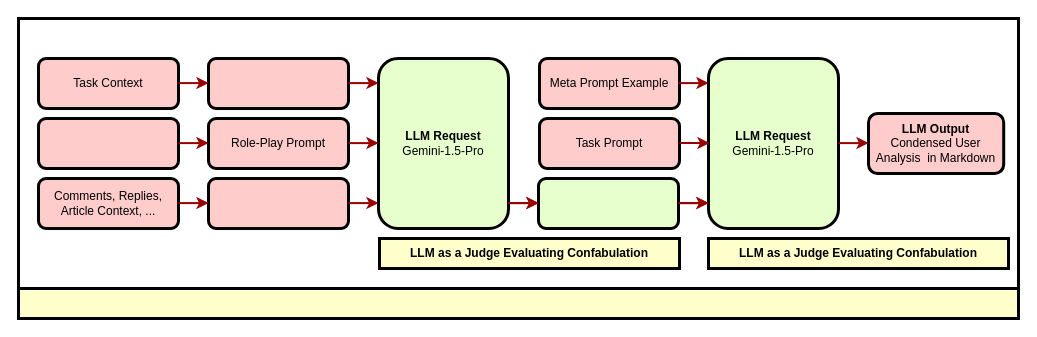
Some shapes in this 1037 by 337 pixel diagram are drawn without their labels. The shapes that lost their labels are listed below. From the top down, each one's centre as x and y in pixels, then its label:
At [278,83]: "Response Schema".
At [108,143]: "Role: Lisa Feldman Barrett".
At [278,203]: "Context Sphere".
At [608,203]: "LLM Output User Analysis in JSON".
At [518,303]: "Evaluation through User Study".
